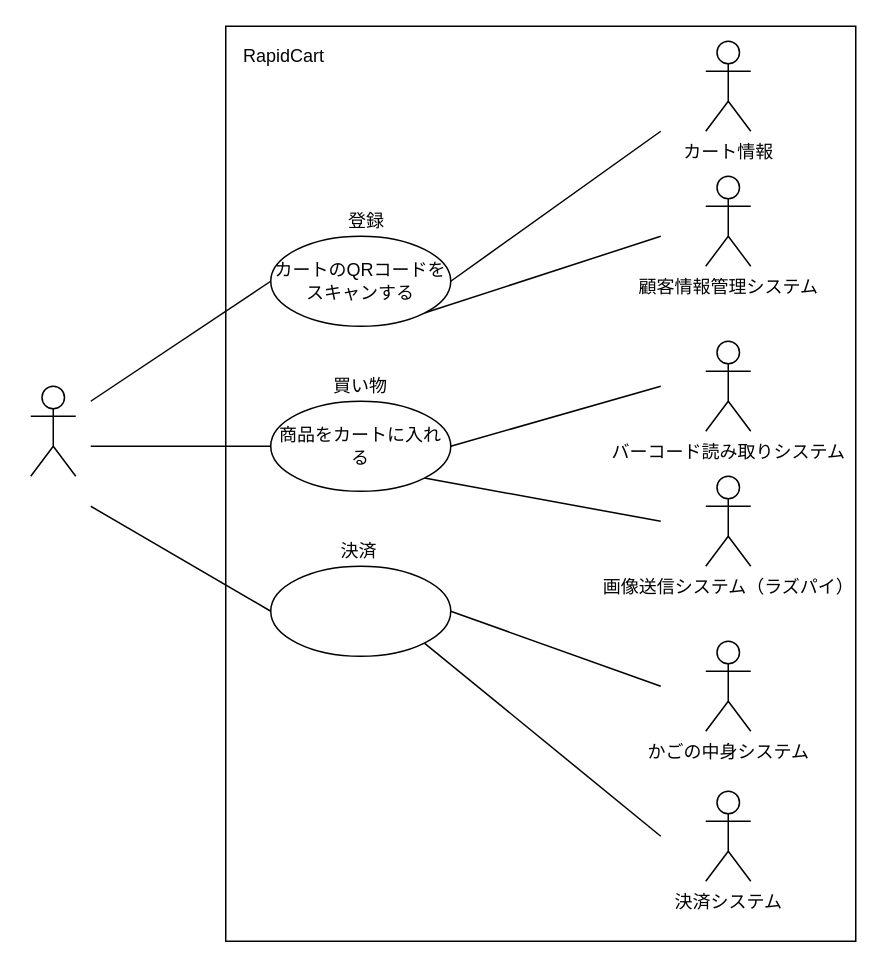
The diagram is 882 pixels wide and 968 high, and some of its shapes have lost their labels. Here are the shapes that lost their labels. From the top down, the centre of each, then its label:
At pixel 52 430: "お客様".
At pixel 360 610: "カートを返す".
